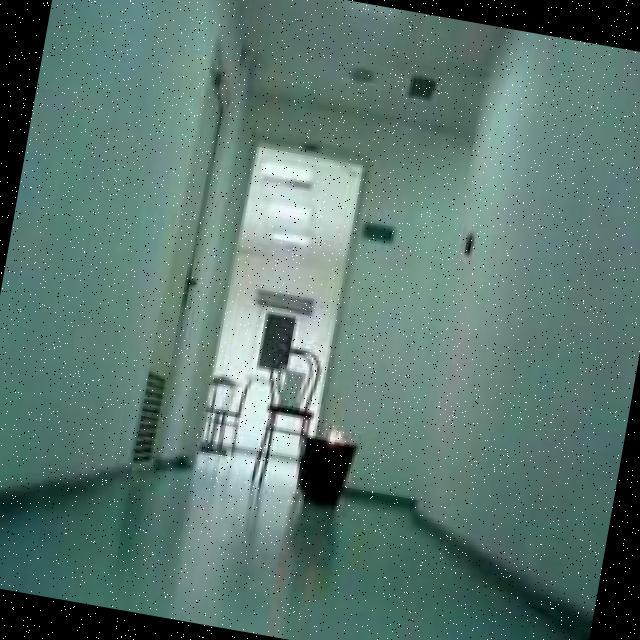Fire: (322, 422, 351, 444)
